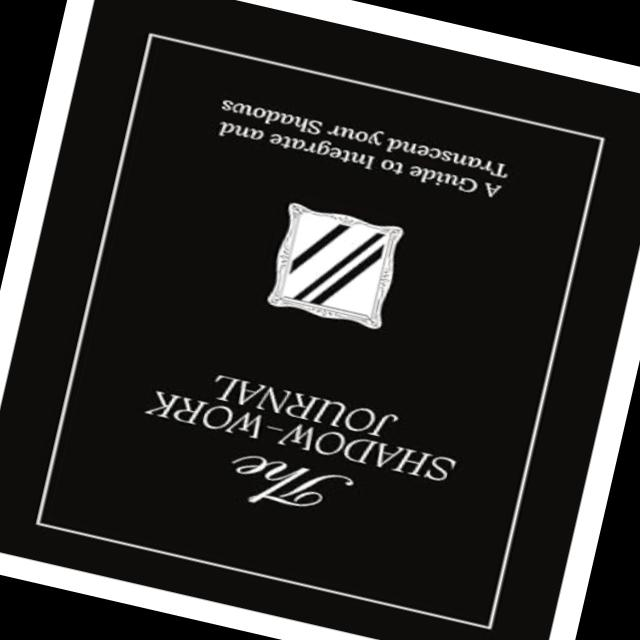titles-or-authors: (112, 343, 471, 550)
